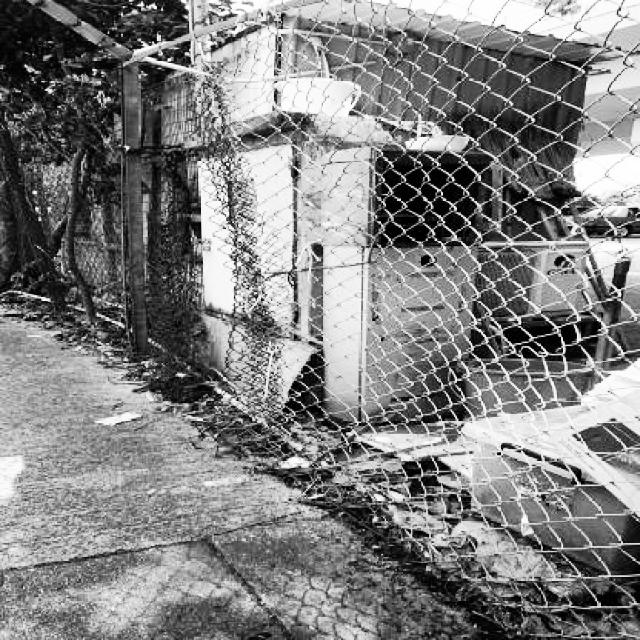anomaly-fence: (16, 25, 278, 429)
fences: (344, 54, 640, 515)
